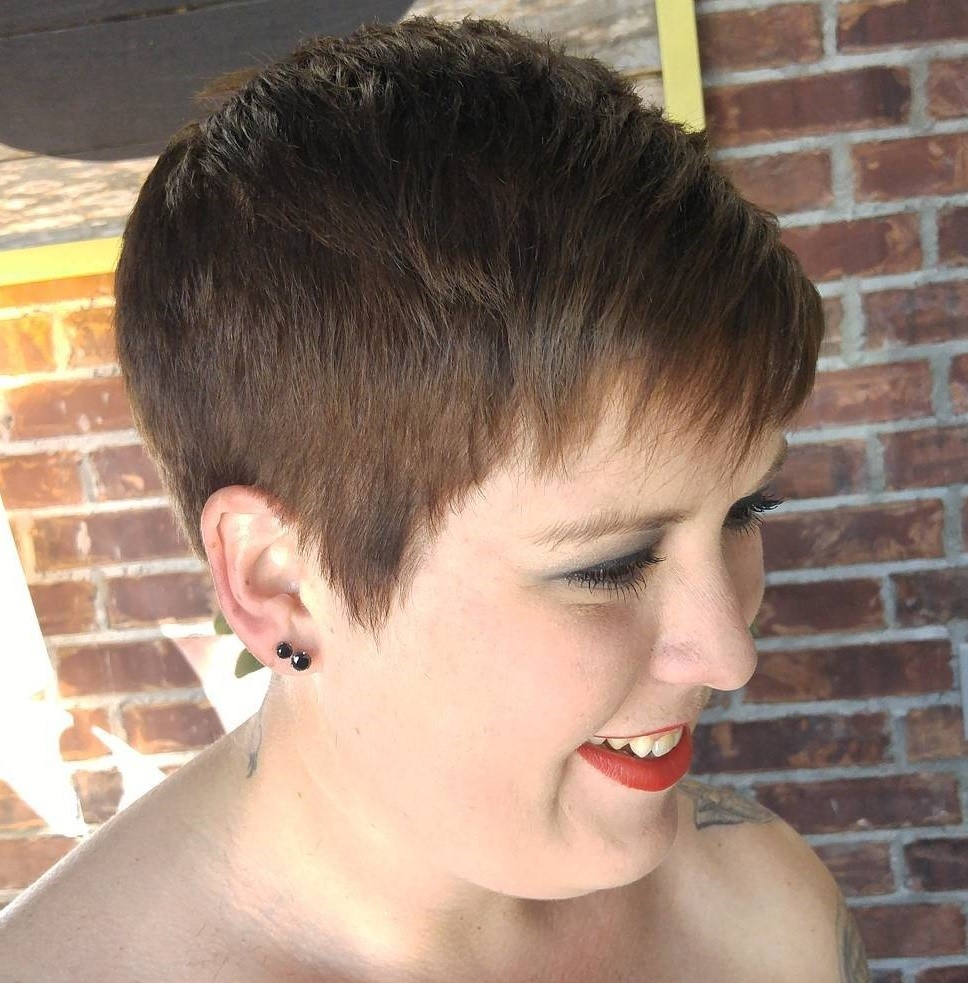face_no_mask: (122, 14, 806, 908)
